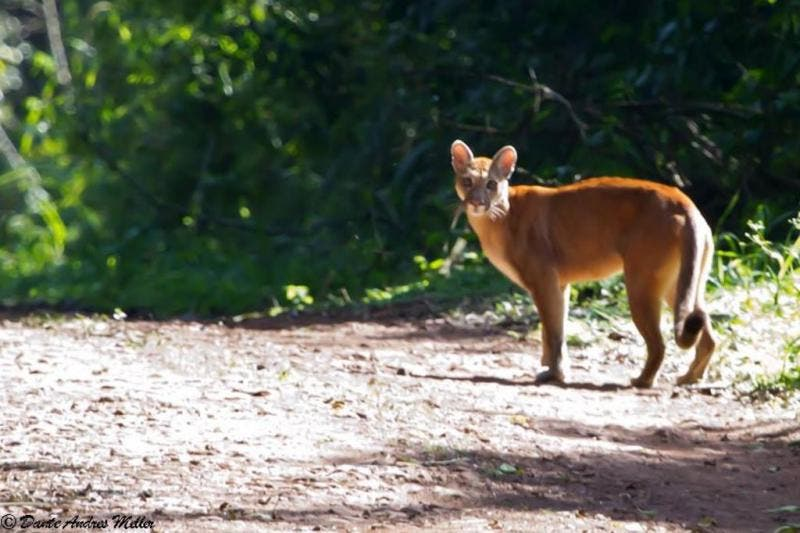OncaParda: (437, 134, 728, 395)
